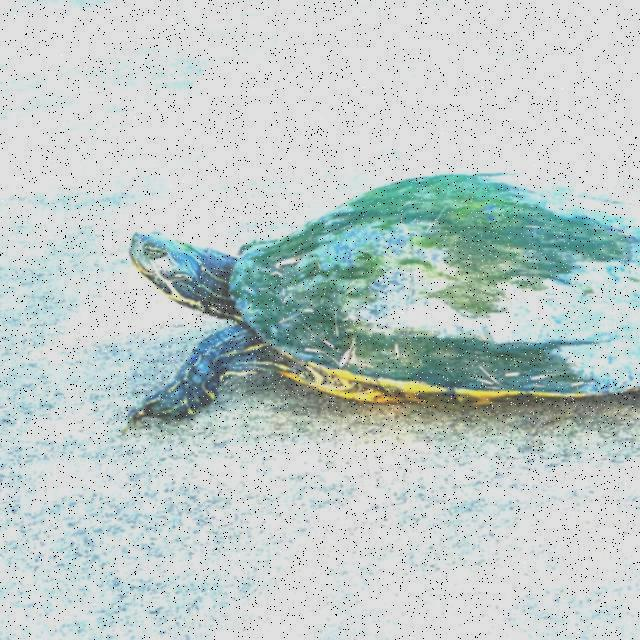tortoise: (124, 170, 634, 452)
